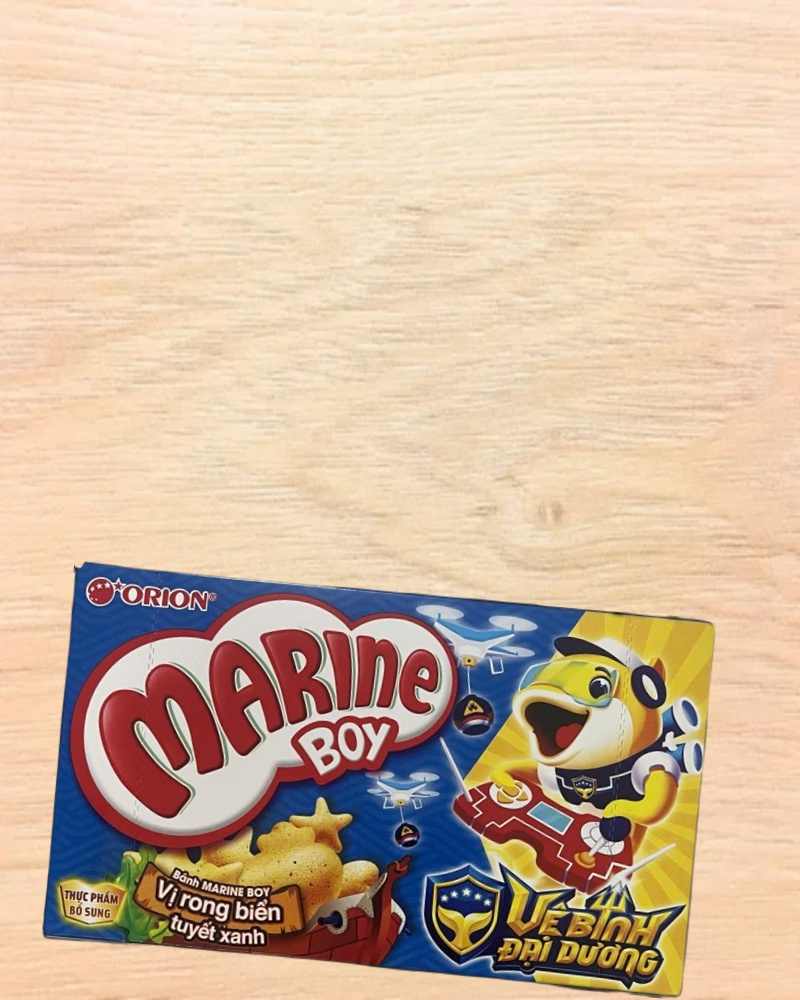Marine: (44, 562, 718, 999)
